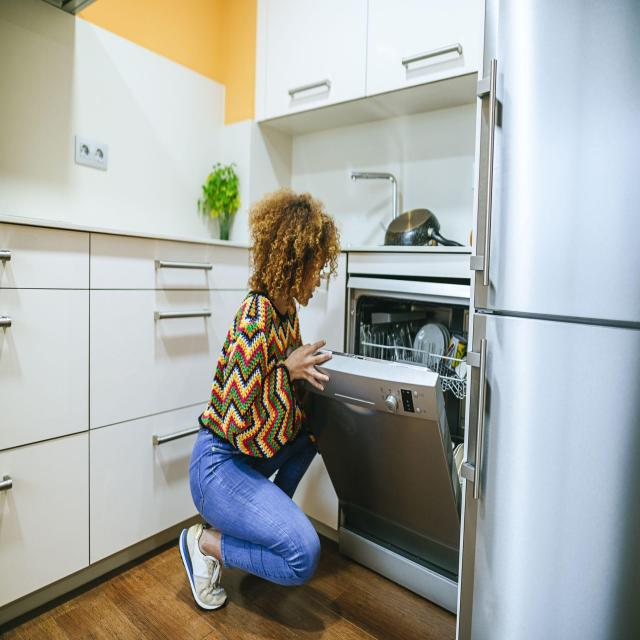dishwasher: (291, 254, 486, 563)
